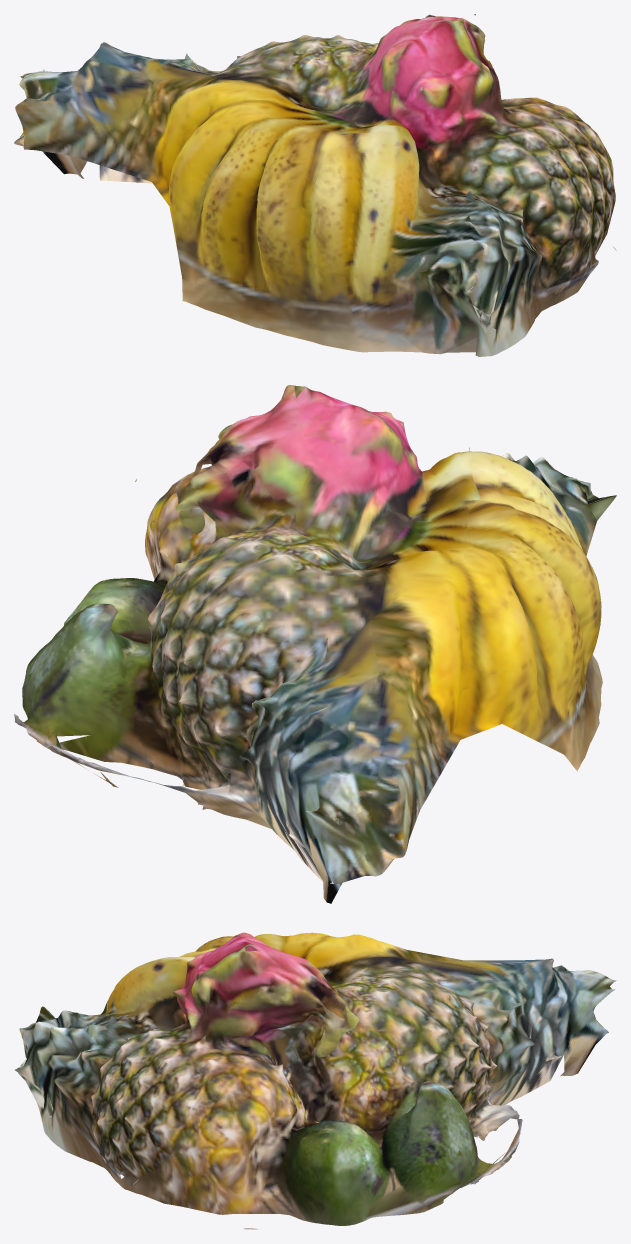
3 renders of one model, top to bottom at view 1: azimuth 30°, elevation 25°; view 2: azimuth 150°, elevation 25°; view 3: azimuth 270°, elevation 25°, orthographic. The views are drawn at different scales.
Parts seen in each view (by area): view 1: Object_2; view 2: Object_2; view 3: Object_2.
Part boxes in pixels (bbox=[...]): Object_2: bbox=[14, 14, 616, 356]; Object_2: bbox=[14, 385, 616, 903]; Object_2: bbox=[14, 932, 616, 1229].
Bounding box in the file's own units: 0.2997 × 0.168 × 0.4235.
Materials: 1 (1 with a texture image).
